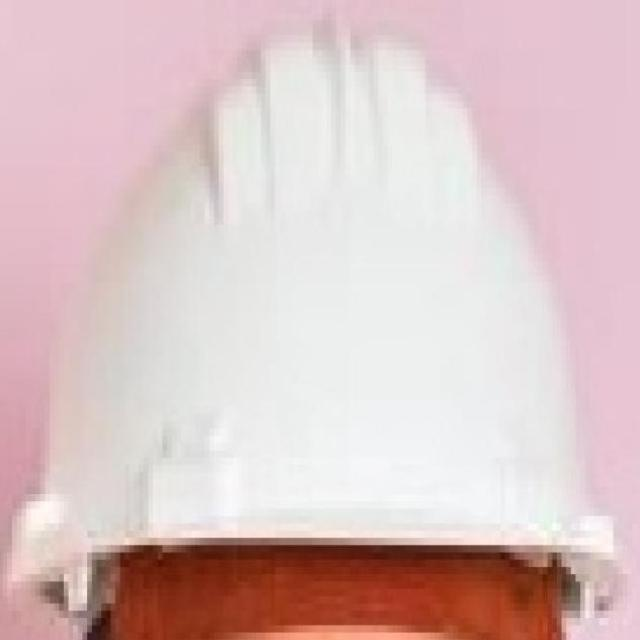white helmet: (33, 33, 625, 601)
